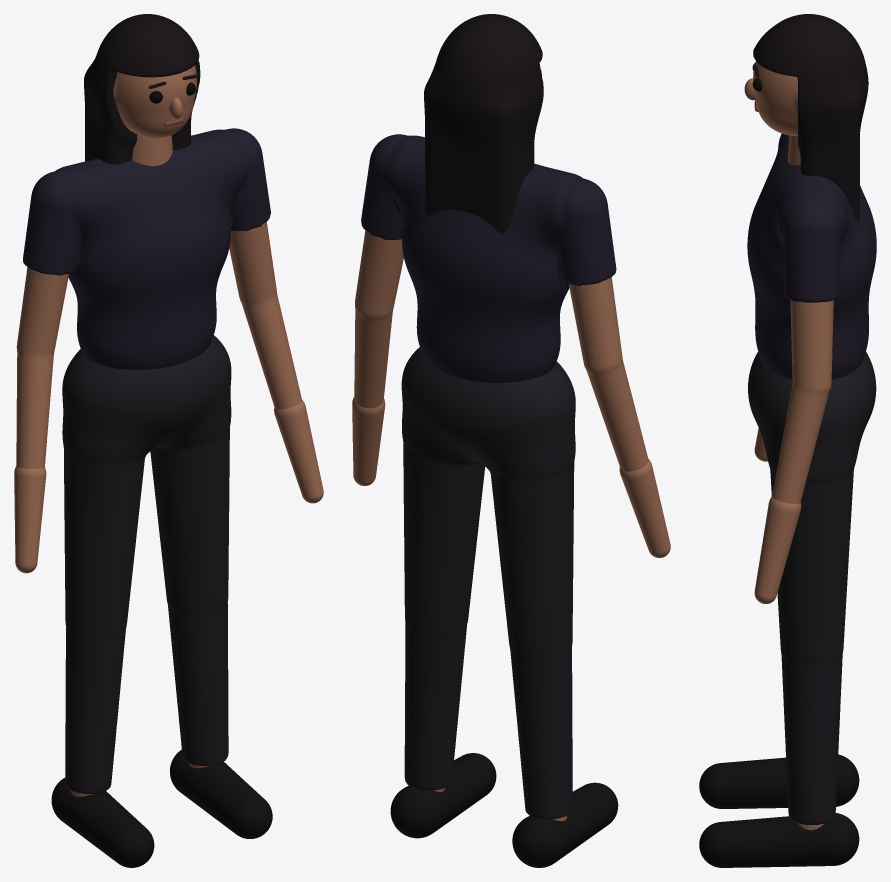
3 views of the same model, side by side, from view 1: azimuth 30°, elevation 25°; view 2: azimuth 150°, elevation 25°; view 3: azimuth 270°, elevation 25° (orthographic). The views are drawn at different scales.
Visible parts, largest first — view 1: clothing.bottom, clothing.top, arms, clothing.shoes, hair, hands, head, neck, face; view 2: clothing.bottom, clothing.top, hair, arms, clothing.shoes, hands; view 3: clothing.bottom, clothing.top, hair, clothing.shoes, arms, hands, head, face.
Boxes of the visible parts, x1,y1,x2,y2 form: clothing.bottom: (62,335,231,794); clothing.top: (23,128,270,369); arms: (16,222,301,468); clothing.shoes: (51,749,272,867); hair: (84,14,200,164); hands: (14,400,323,573); head: (113,65,196,138); neck: (132,134,172,166); face: (148,74,198,126); clothing.bottom: (401,347,575,819); clothing.top: (361,134,616,382); hair: (424,14,543,233); arms: (354,230,648,471); clothing.shoes: (390,753,618,867); hands: (352,397,670,557); clothing.bottom: (748,352,876,824); clothing.top: (747,133,876,379); hair: (753,14,868,221); clothing.shoes: (699,754,859,867); arms: (772,300,833,503); hands: (754,428,801,603); head: (753,61,797,136); face: (744,58,762,111).
Bounding box in the file's own units: 0.701 × 1.76 × 0.3459.
